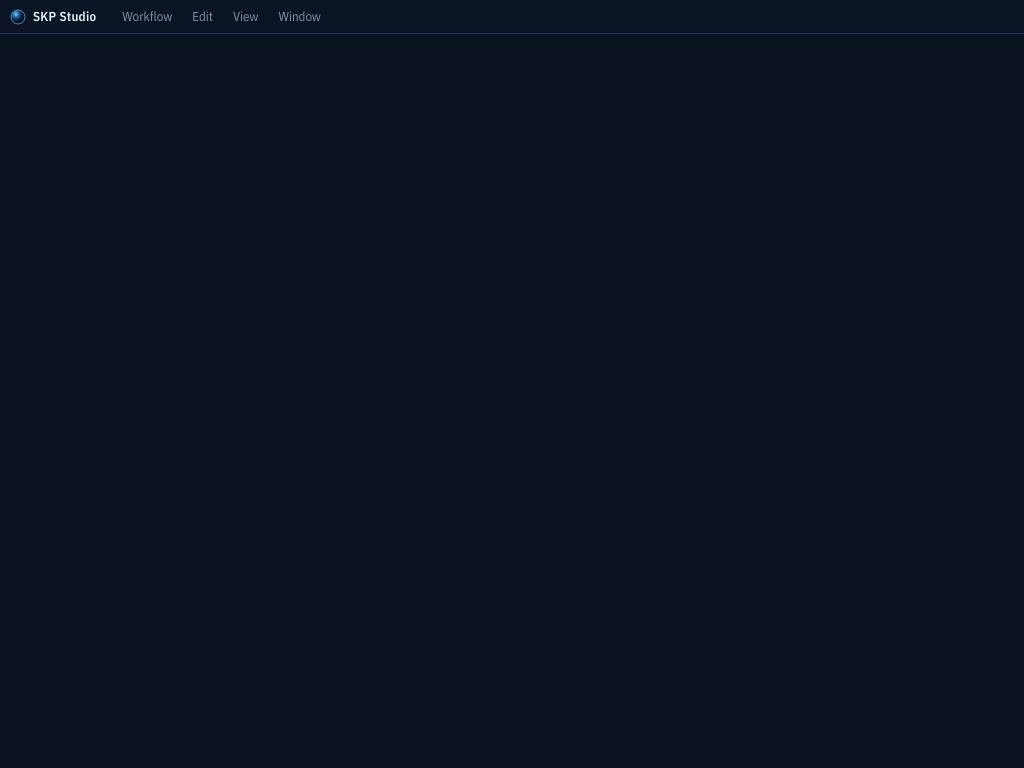
Test: App › lists the workflows in the picker by unique name, sorted
This screenshot has width=1024, height=768.
Click the menu item "Workflow".
click(147, 16)  # box [112,2,182,31]
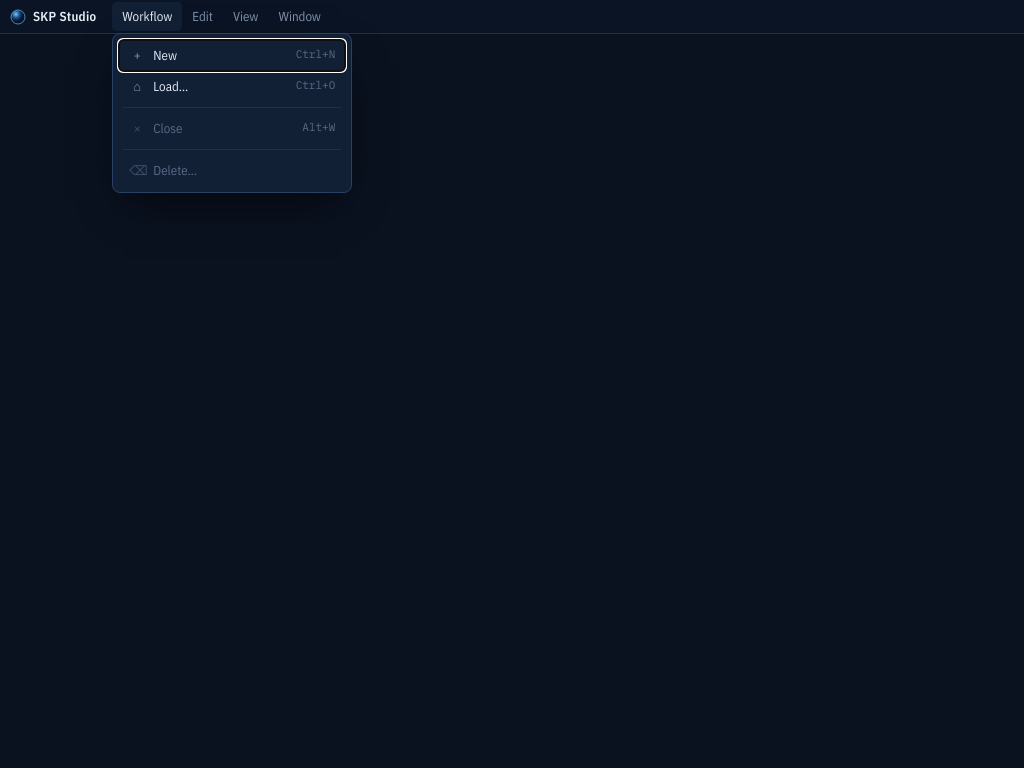
Click the menu item "⌂ Load… Ctrl+O".
click(171, 86)  # box [133,78,335,95]
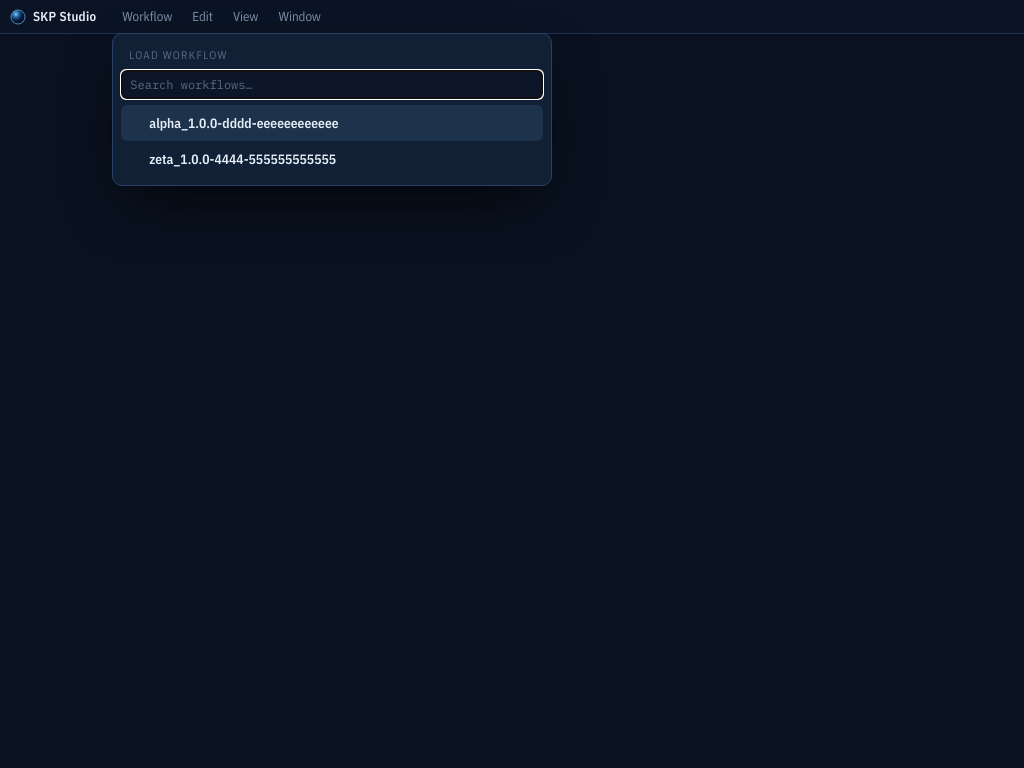
Check: the options read "alpha_1.0.0-dddd-eeeeeeeeeeee", "zeta_1.0.0-4444-555555555555", in this order, box [121,105,543,141]; [149,150,336,168]
